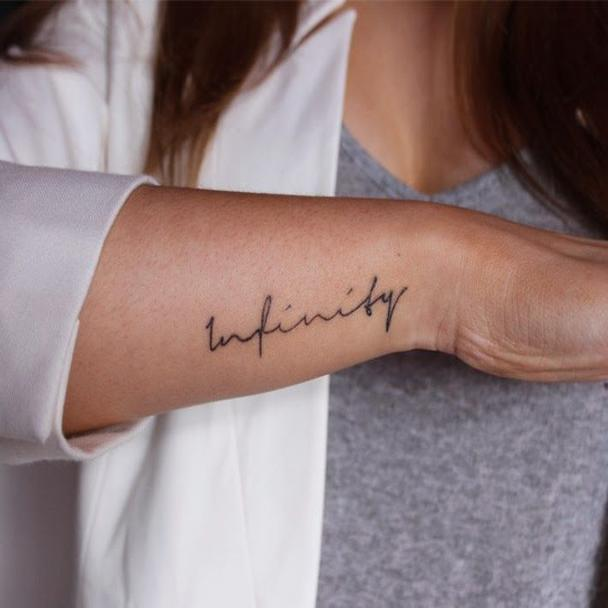tattoos: (204, 275, 408, 358)
